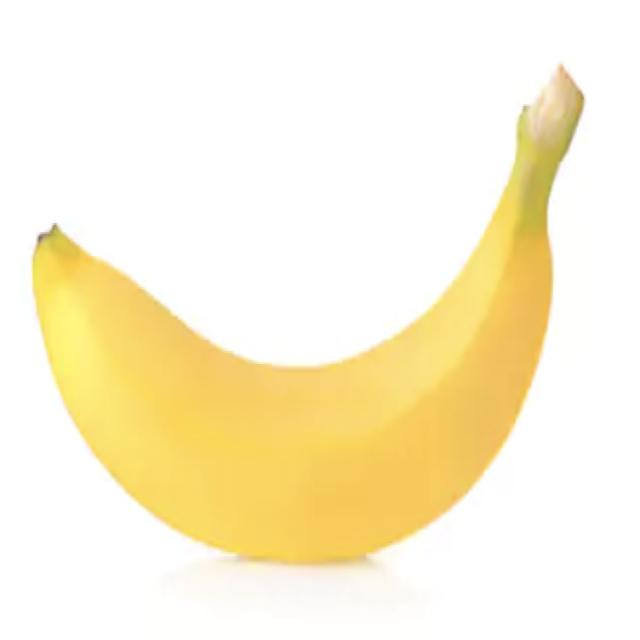fresh-banana: (24, 75, 579, 580)
